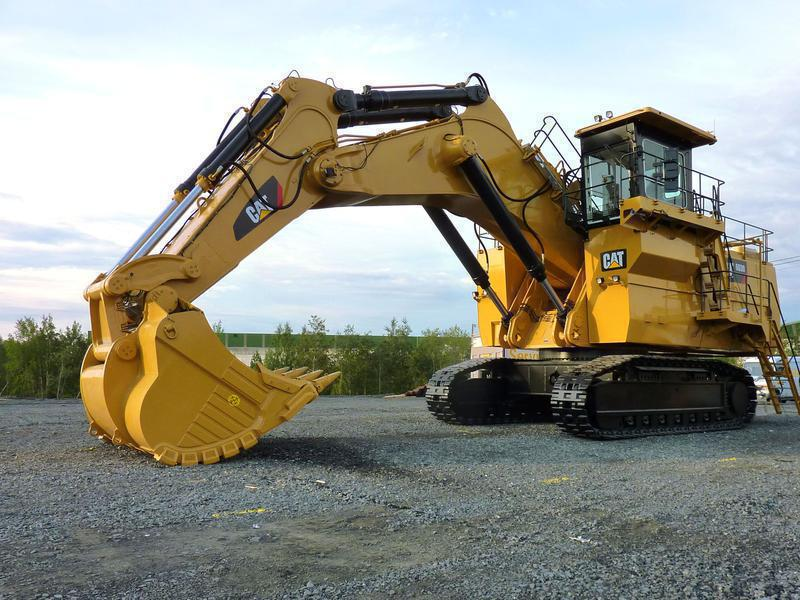shovel: (71, 64, 800, 472)
